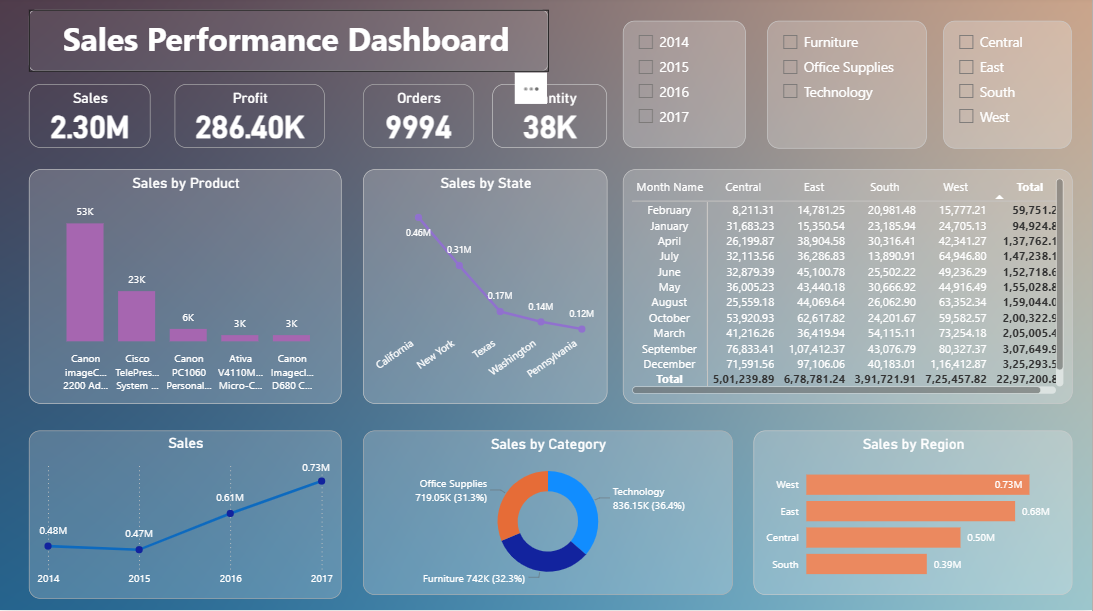

The dashboard page shown, as its layout file describes it:
{"tool":"powerbi","page":{"name":"Page 1","canvas":[1280,720],"ordinal":0},"visuals":[{"type":"lineChart","title":"Sales","fields":{"Category":["Superstore.Order Date.Variation.Date Hierarchy.Year","Superstore.Order Date.Variation.Date Hierarchy.Quarter","Superstore.Order Date.Variation.Date Hierarchy.Month","Superstore.Order Date.Variation.Date Hierarchy.Day"],"Y":["Sum(Superstore.Sales)"]},"box":[34,509.6,366.7,196.8],"z":0},{"type":"columnChart","title":"Sales by Product","fields":{"Category":["Superstore.Product Name"],"Y":["Sum(Superstore.Sales)"]},"box":[34,203.8,366.7,274.8],"z":1000},{"type":"barChart","title":"Sales by Region","fields":{"Category":["Superstore.Region"],"Y":["Sum(Superstore.Sales)"]},"box":[883.3,509.6,373.7,192.8],"z":2000},{"type":"donutChart","title":"Sales by Category","fields":{"Category":["Superstore.Category"],"Y":["Sum(Superstore.Sales)"]},"box":[425.7,509.6,433.7,192.8],"z":3000},{"type":"card","title":"Sales","fields":{"Values":["Sum(Superstore.Sales)"]},"box":[34,102.9,142.9,74.9],"z":4000},{"type":"card","title":"Profit","fields":{"Values":["Sum(Superstore.Profit)"]},"box":[204.8,102.9,175.9,74.9],"z":5000},{"type":"card","title":"Orders","fields":{"Values":["CountNonNull(Superstore.Order ID)"]},"box":[425.7,102.9,129.9,74.9],"z":6000},{"type":"pivotTable","fields":{"Columns":["Superstore.Region"],"Values":["Sum(Superstore.Sales)"],"Rows":["Superstore.Month Name"]},"box":[729.4,203.8,527.6,274.8],"z":7000},{"type":"lineChart","title":"Sales by State","fields":{"Category":["Superstore.State"],"Y":["Sum(Superstore.Sales)"]},"box":[425.7,203.8,286.8,274.8],"z":8000},{"type":"slicer","fields":{"Values":["Superstore.Region"]},"box":[1105.9,29.2,150.8,149.8],"z":9000},{"type":"slicer","fields":{"Values":["Superstore.Category"]},"box":[899.7,29.2,186.7,149.8],"z":10000},{"type":"slicer","fields":{"Values":["Superstore.Order_Year"]},"box":[729.5,29.2,144,148.8],"z":11000},{"type":"card","title":"Quantity","fields":{"Values":["Sum(Superstore.Quantity)"]},"box":[577.5,102.9,134.9,74.9],"z":12000},{"type":"textbox","box":[34,16,608.5,71.9],"z":13000}]}

Visuals, with their boxes in screenshot pixels (x1, y1, x2, y2), scaled from the page's 1280x720 canvas onto the 1093x611 screenshot:
"Sales" lineChart: bbox=[29, 432, 342, 599]
"Sales by Product" columnChart: bbox=[29, 173, 342, 406]
"Sales by Region" barChart: bbox=[754, 432, 1073, 596]
"Sales by Category" donutChart: bbox=[364, 432, 734, 596]
"Sales" card: bbox=[29, 87, 151, 151]
"Profit" card: bbox=[175, 87, 325, 151]
"Orders" card: bbox=[364, 87, 474, 151]
pivotTable - Superstore.Region x Sum(Superstore.Sales): bbox=[623, 173, 1073, 406]
"Sales by State" lineChart: bbox=[364, 173, 608, 406]
slicer - Superstore.Region: bbox=[944, 25, 1073, 152]
slicer - Superstore.Category: bbox=[768, 25, 928, 152]
slicer - Superstore.Order_Year: bbox=[623, 25, 746, 151]
"Quantity" card: bbox=[493, 87, 608, 151]
textbox: bbox=[29, 14, 549, 75]
